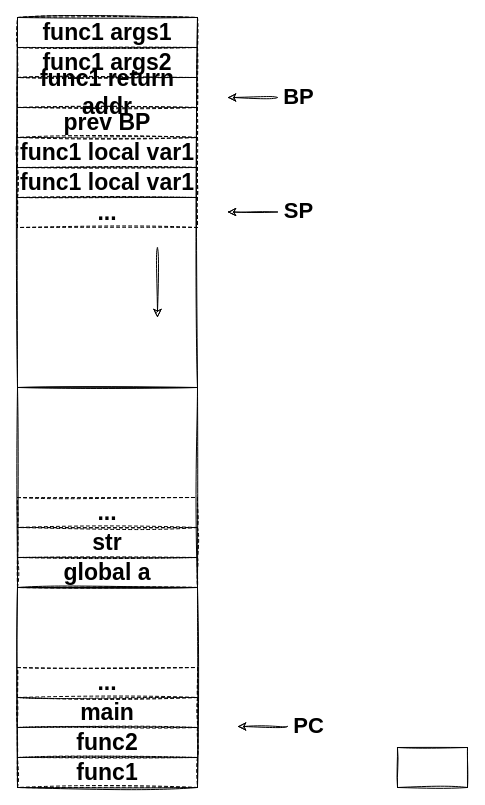
This 485x805 diagram has some shape labels left out. Each missing label, with the box of its shape:
AX: (396, 746, 468, 788)
data: (16, 386, 198, 588)
stack: (16, 16, 198, 388)
text: (16, 586, 198, 788)
